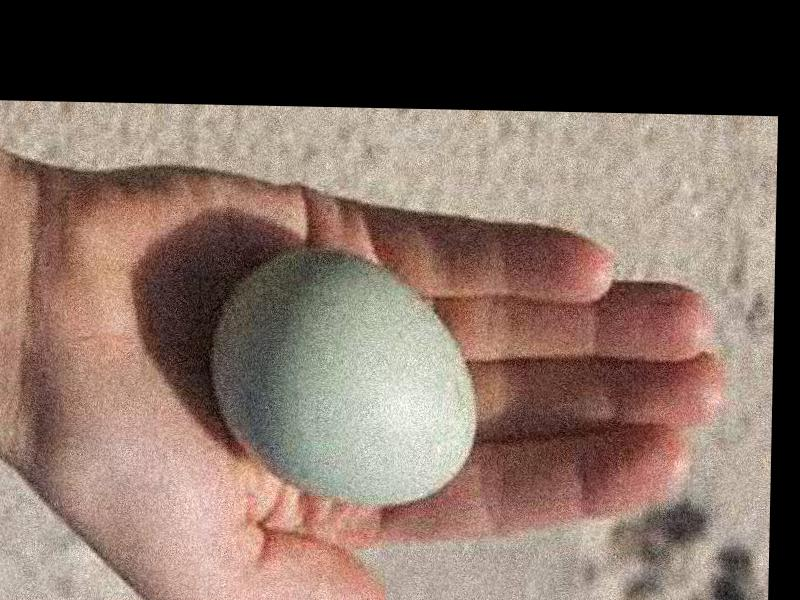Eggs: (214, 249, 482, 505)
